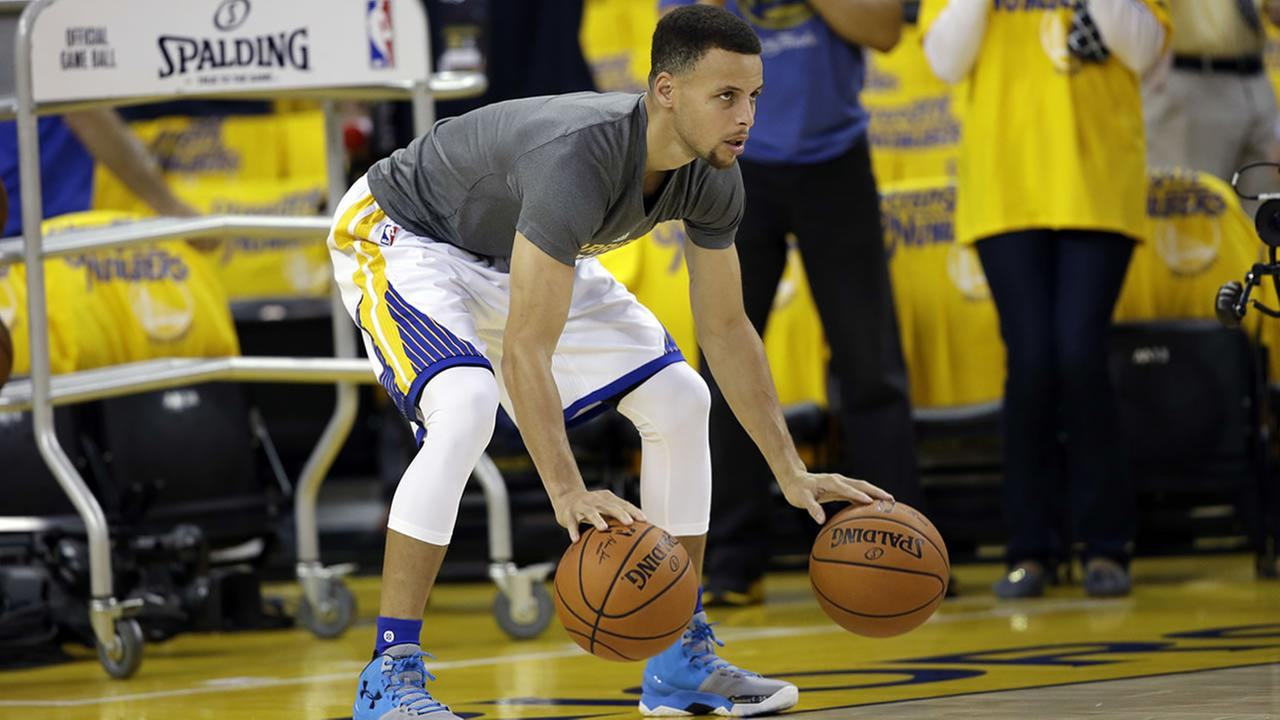Basketball: (806, 501, 953, 644), (552, 522, 697, 665)
